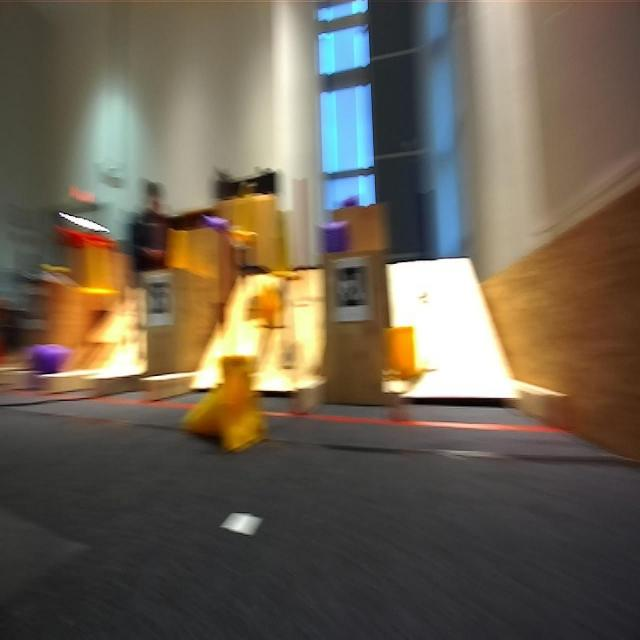frc_cone: (184, 352, 267, 456), (268, 200, 304, 281), (76, 239, 118, 302), (382, 322, 422, 388), (230, 174, 260, 248), (254, 282, 286, 332), (160, 225, 190, 270)
frc_cube: (324, 215, 352, 257), (34, 338, 56, 375), (200, 211, 228, 229), (341, 194, 359, 210)
